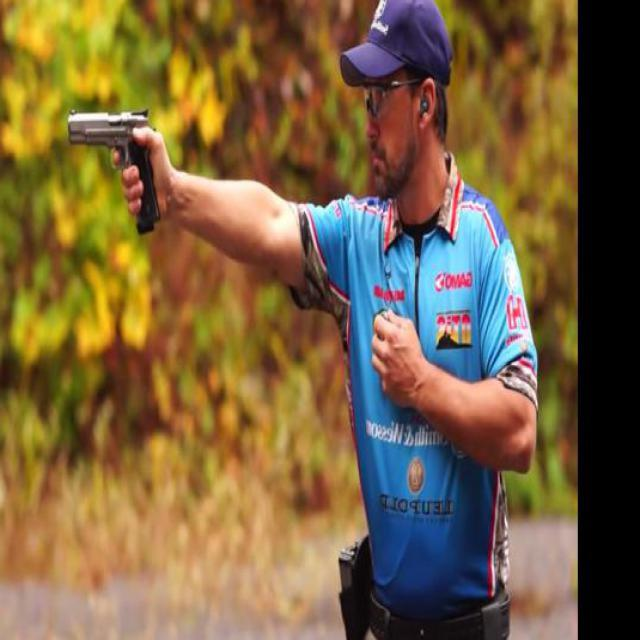weapon: (64, 110, 160, 238)
